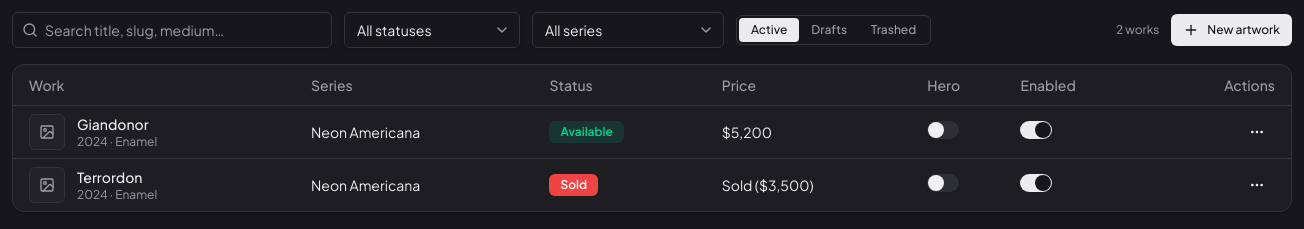
Test: <CatalogView/> fixed contracts › search filter narrows rows
Type "Terrordon" into the field with placeholder "Search title, slug, medium…" at (172, 30), box left=12, top=12, right=332, bottom=48
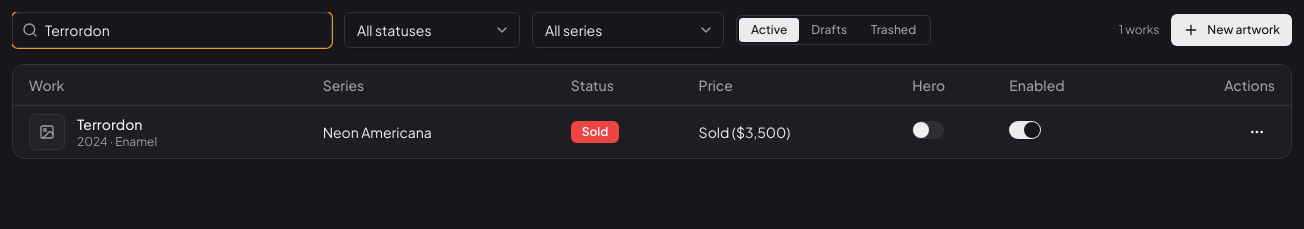
Expected: the text "Terrordon" is shown, left=77, top=114, right=142, bottom=132
Expected: the button "Giandonor" is gone
